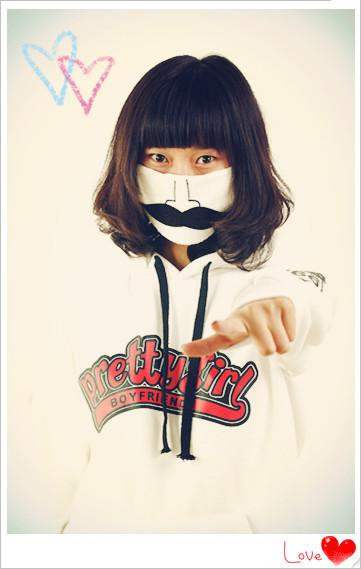OK: (135, 137, 240, 249)
